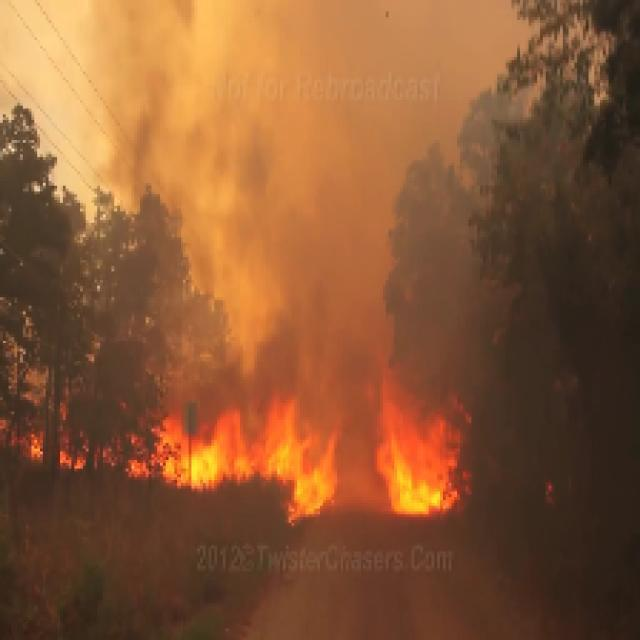Fire: (106, 386, 480, 526)
Smoke: (177, 54, 397, 360)
